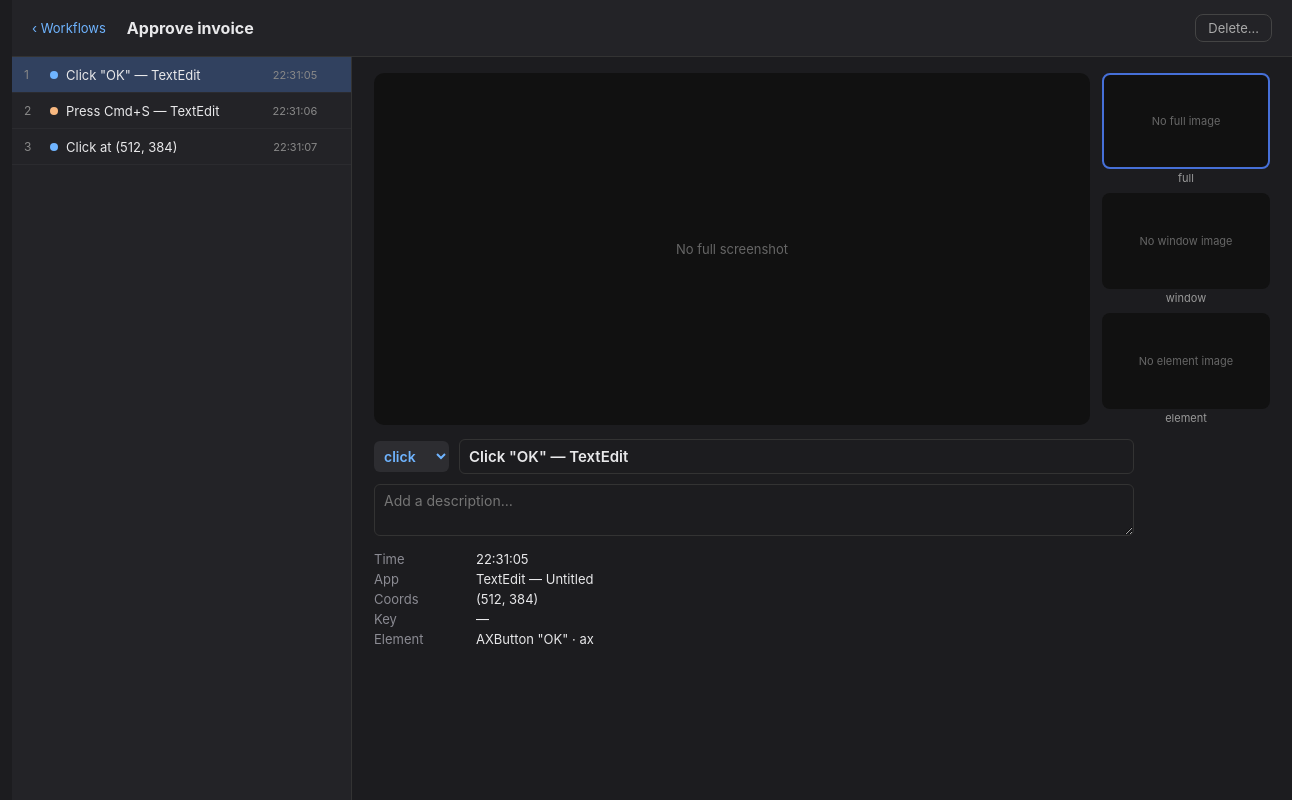
Test: edit persistence › surfaces a failed autosave and recovers through Retry
Expected: the text "Click \"OK\" — TextEdit" is shown, [66,66,201,82]
Type "double-check the total" into the text box named "Step description" at (754, 510), box [374,484,1134,536]
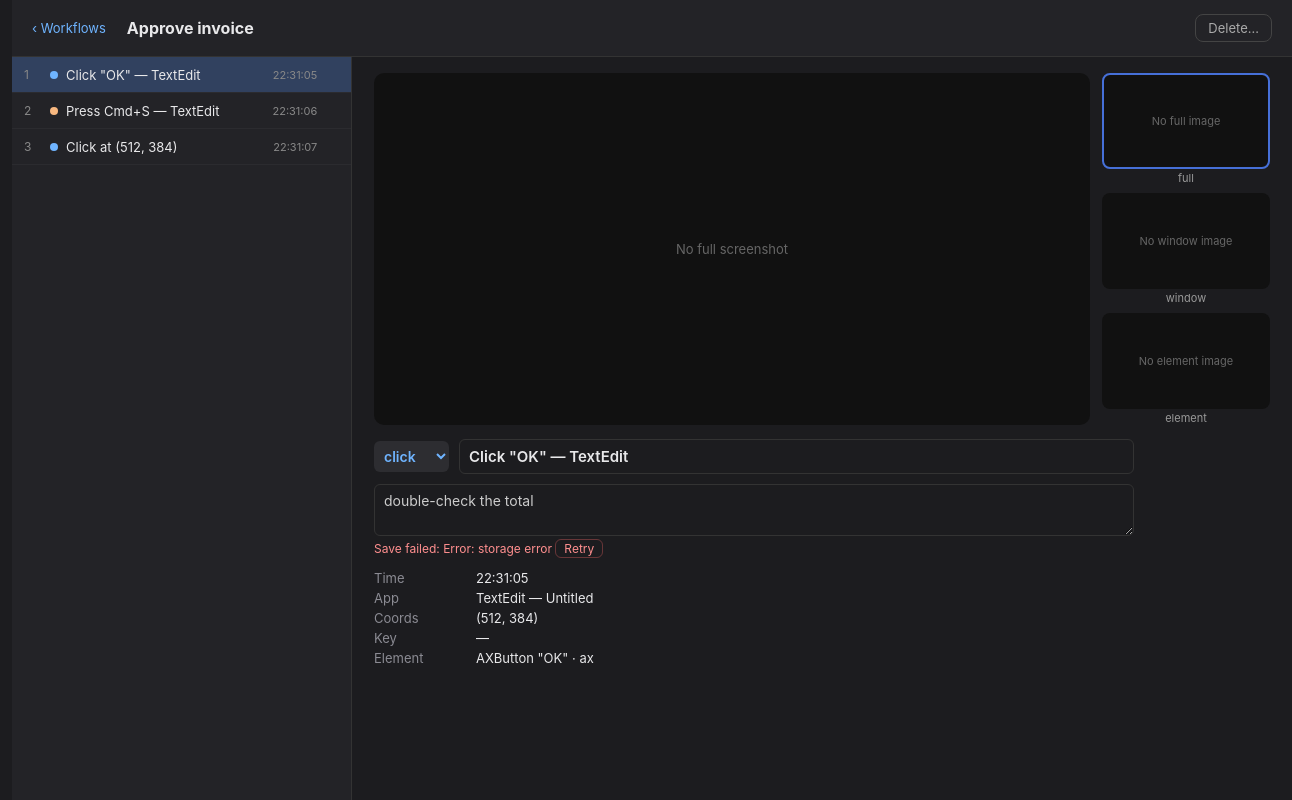
Now the message shows "Save failed", box [374,541,443,556]
Now the message shows "storage error", box [443,541,552,556]
Click the button "Retry" at (579, 548), box [555,539,603,558]
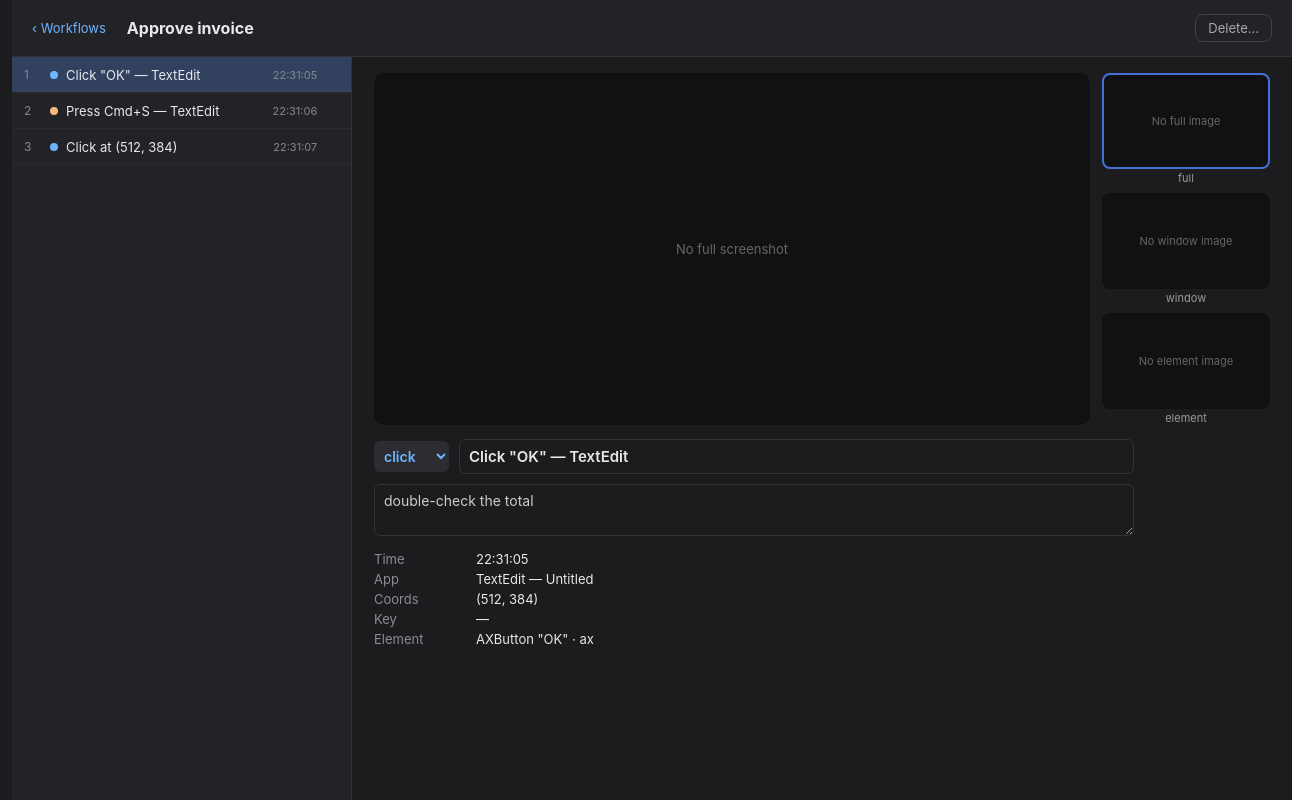
Now the message "Save failed: Error: storage error Retry" is gone
